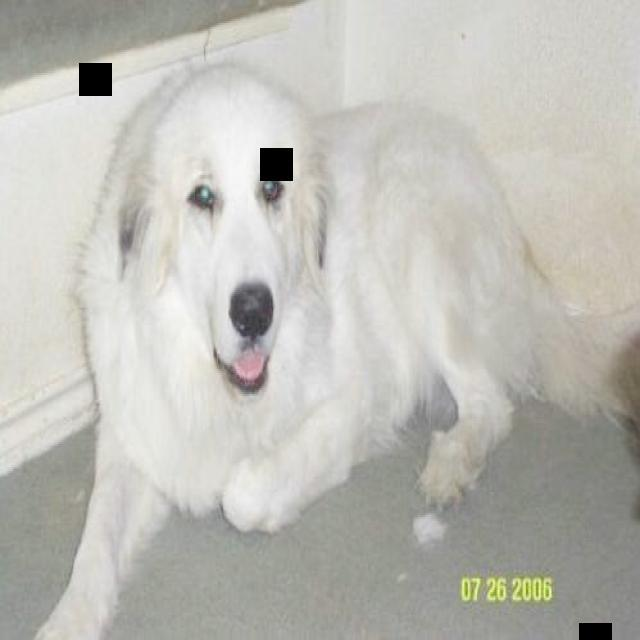adult_dog: (24, 59, 640, 640)
